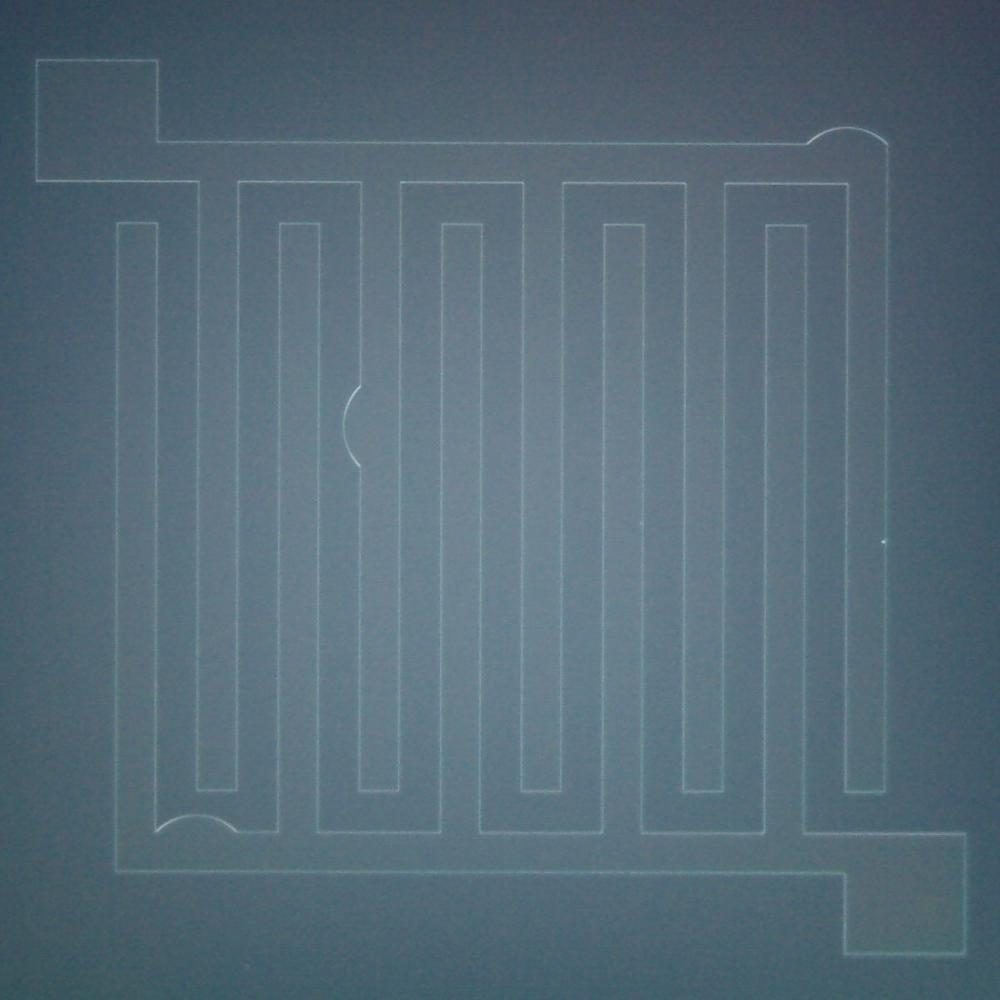dot: (882, 540, 885, 544)
